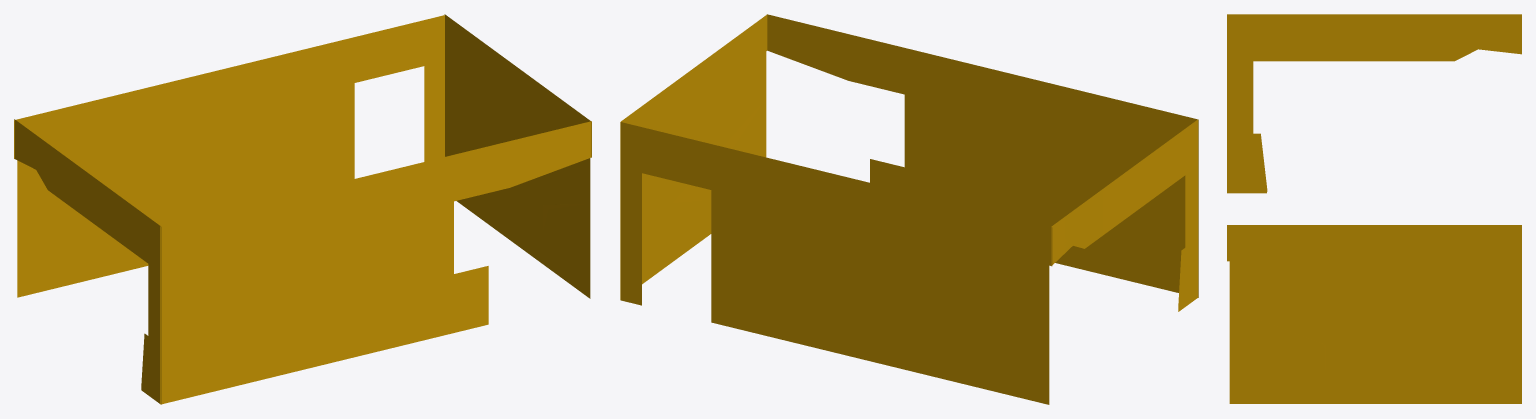
Rendered from BH07B_WP_14_Break.fbx.
3 views of the same model, side by side, from view 1: azimuth 30°, elevation 25°; view 2: azimuth 150°, elevation 25°; view 3: azimuth 270°, elevation 25° (orthographic).
Parts seen in each view (by area): view 1: BH07B_WP_14_Break; view 2: BH07B_WP_14_Break; view 3: BH07B_WP_14_Break.
Part boxes in pixels (x1=…): BH07B_WP_14_Break: x1=14, y1=14, x2=591, y2=404; BH07B_WP_14_Break: x1=620, y1=14, x2=1198, y2=404; BH07B_WP_14_Break: x1=1227, y1=14, x2=1521, y2=403.
Bounding box in the file's own units: 760 × 301 × 448.
